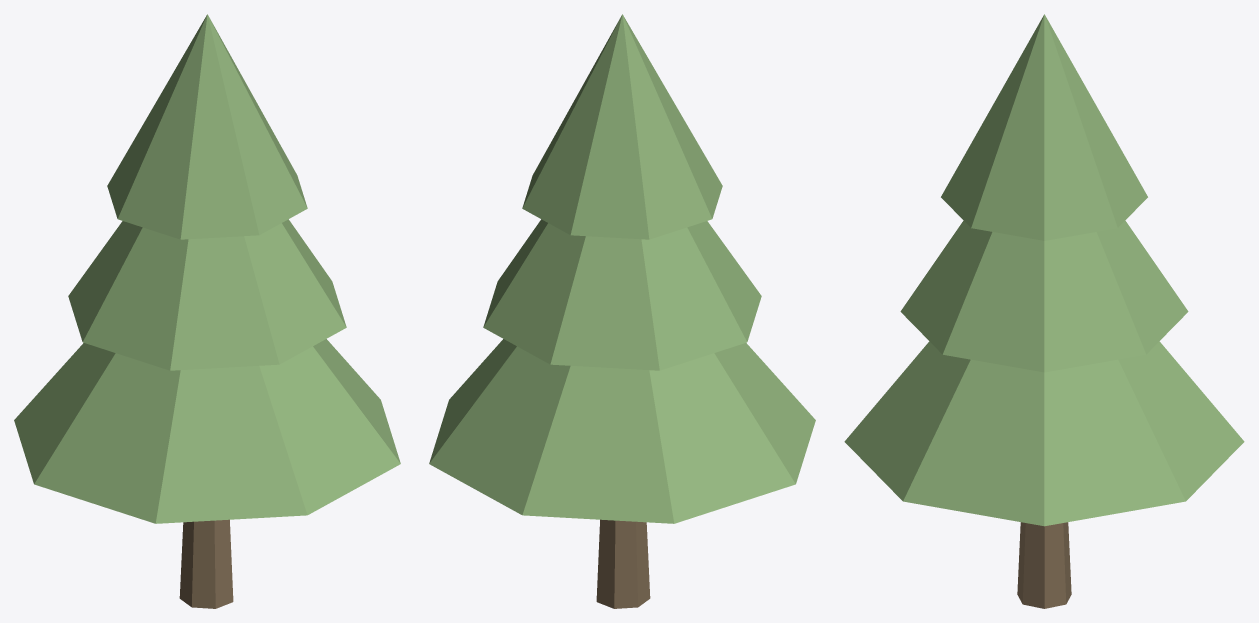
The model's file is nature_tree_pine_01.glb.
3 renders of one model, left to right at view 1: azimuth 30°, elevation 25°; view 2: azimuth 150°, elevation 25°; view 3: azimuth 270°, elevation 25°, orthographic.
Parts seen in each view (by area): view 1: geometry_0; view 2: geometry_0; view 3: geometry_0.
Boxes of the visible parts, x1,y1,x2,y2 form: geometry_0: [14, 14, 400, 608]; geometry_0: [429, 14, 815, 608]; geometry_0: [844, 14, 1244, 608].
Bounding box in the file's own units: 2.3 × 3.7 × 2.3.
